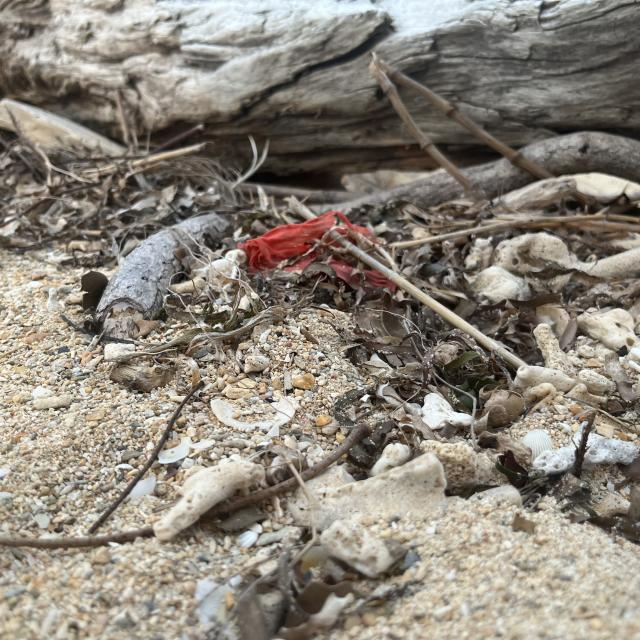stick: (80, 173, 228, 346)
trash: (217, 183, 399, 287)
